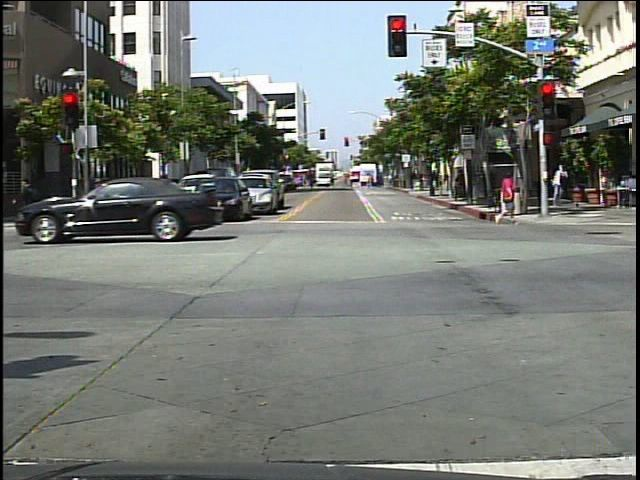person: (15, 168, 53, 235), (151, 172, 184, 236), (492, 169, 525, 230), (549, 160, 571, 211)
